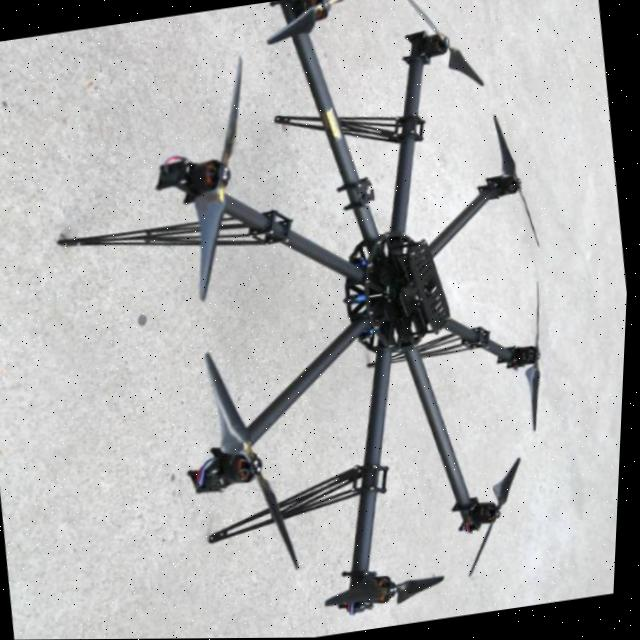drones: (12, 0, 629, 640)
